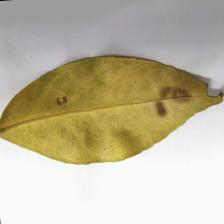black spot: (50, 80, 191, 134)
